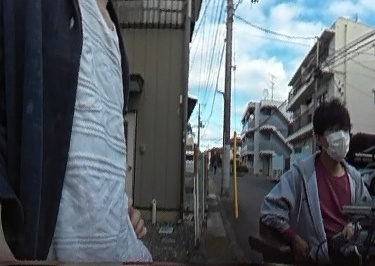person: (261, 99, 371, 266)
